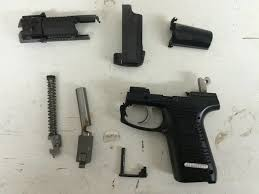gun: (119, 78, 225, 186)
